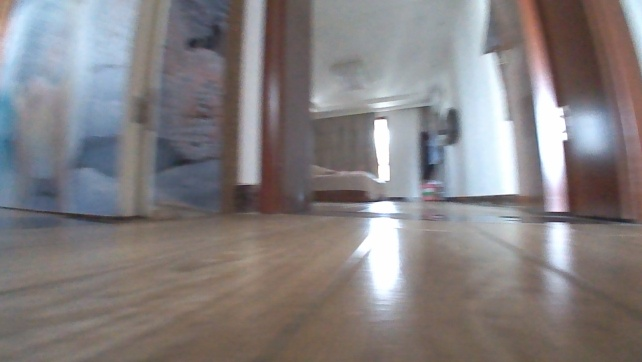bed1: (314, 164, 388, 203)
